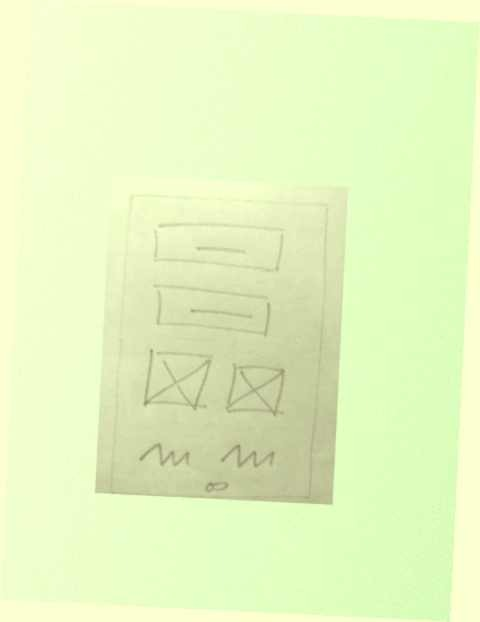button: (148, 214, 294, 278), (145, 279, 279, 342)
image: (139, 344, 218, 418), (222, 359, 293, 420)
switch: (200, 478, 234, 494)
text: (134, 438, 201, 474), (214, 438, 281, 474)
